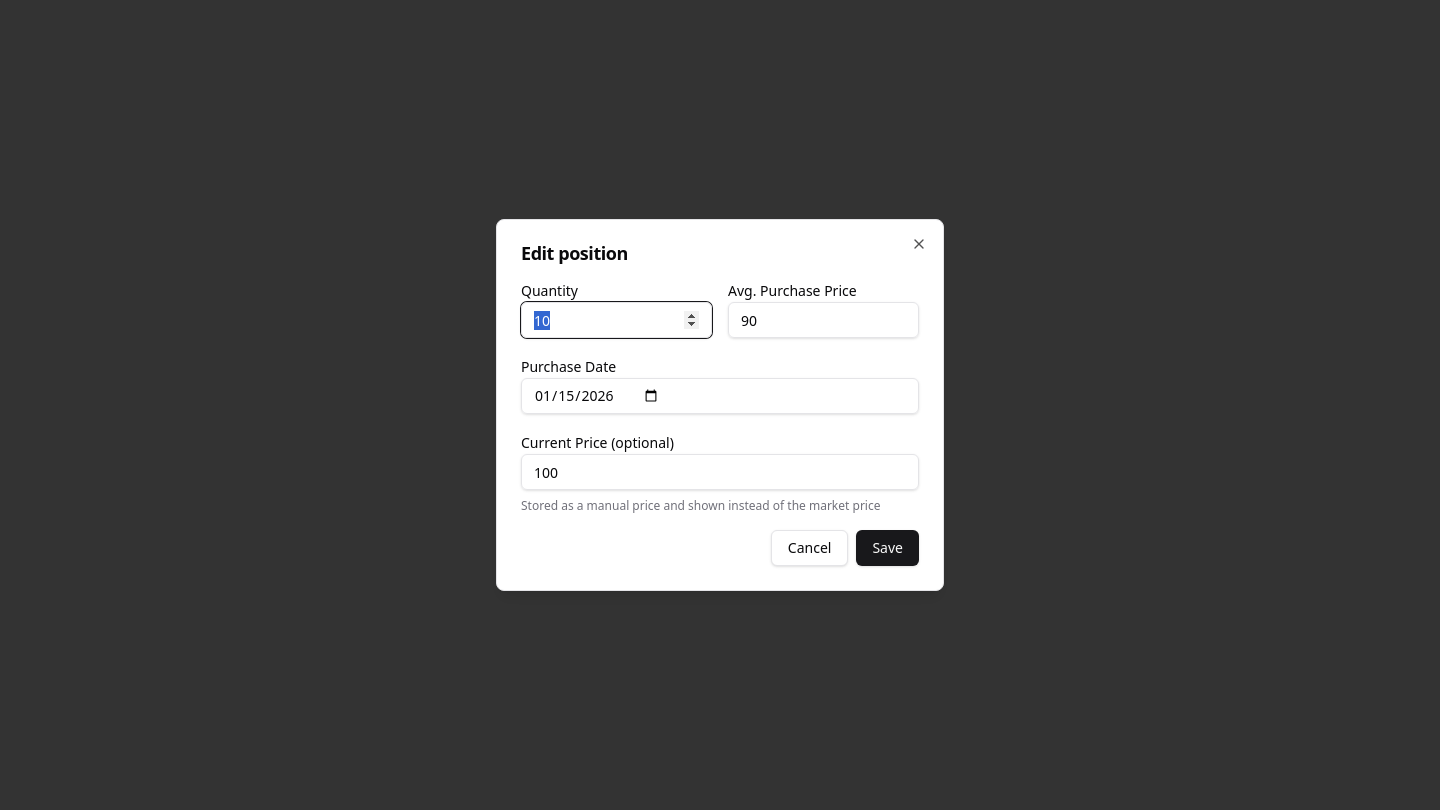
Test: EditPositionDialog › rejects a negative purchase price client-side
The width and height of the screenshot is (1440, 810).
Replace the text in the number field labelled "Avg. Purchase Price" with "-1" at (824, 320), box [728, 302, 919, 338]
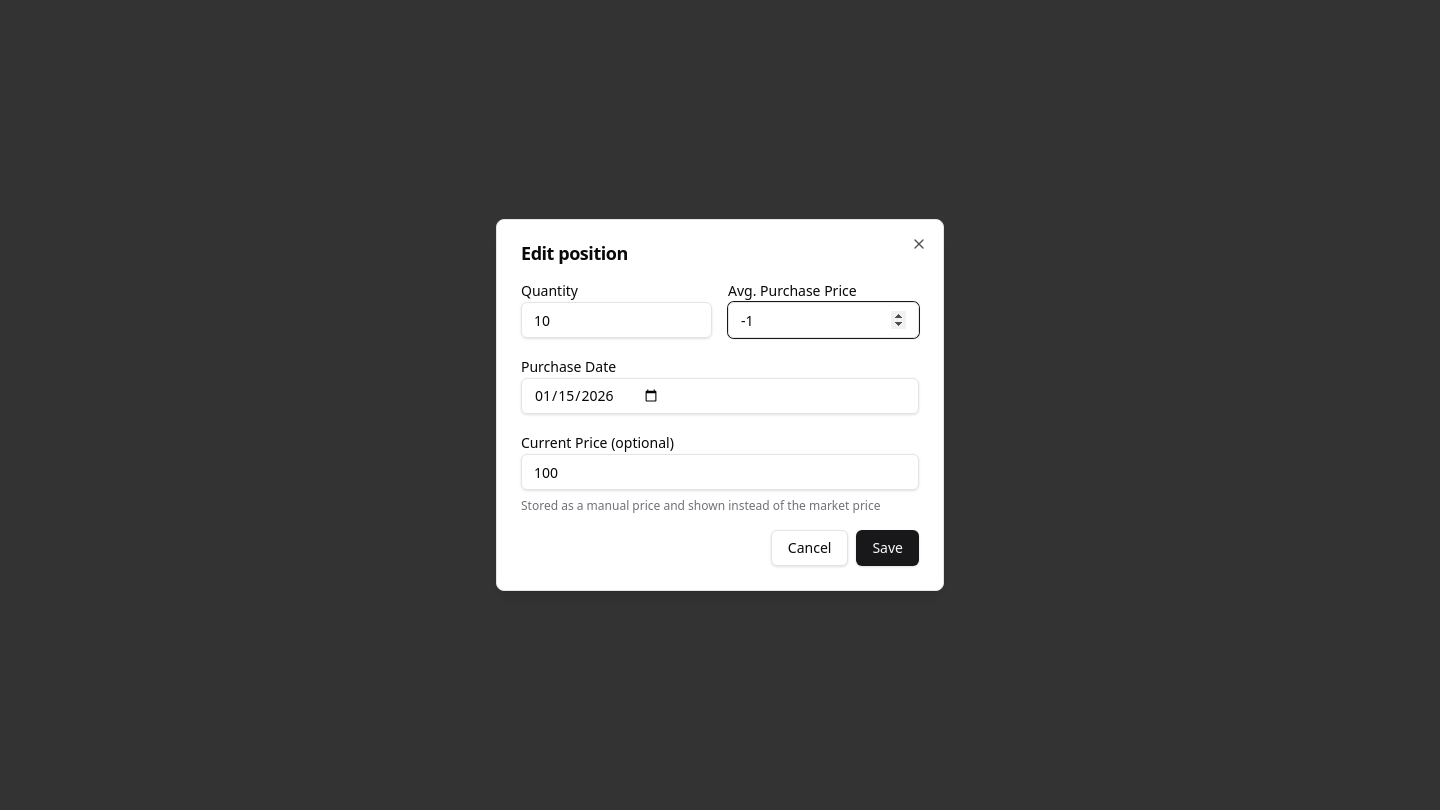
Click the button "Save" at (888, 548), box [856, 530, 919, 566]
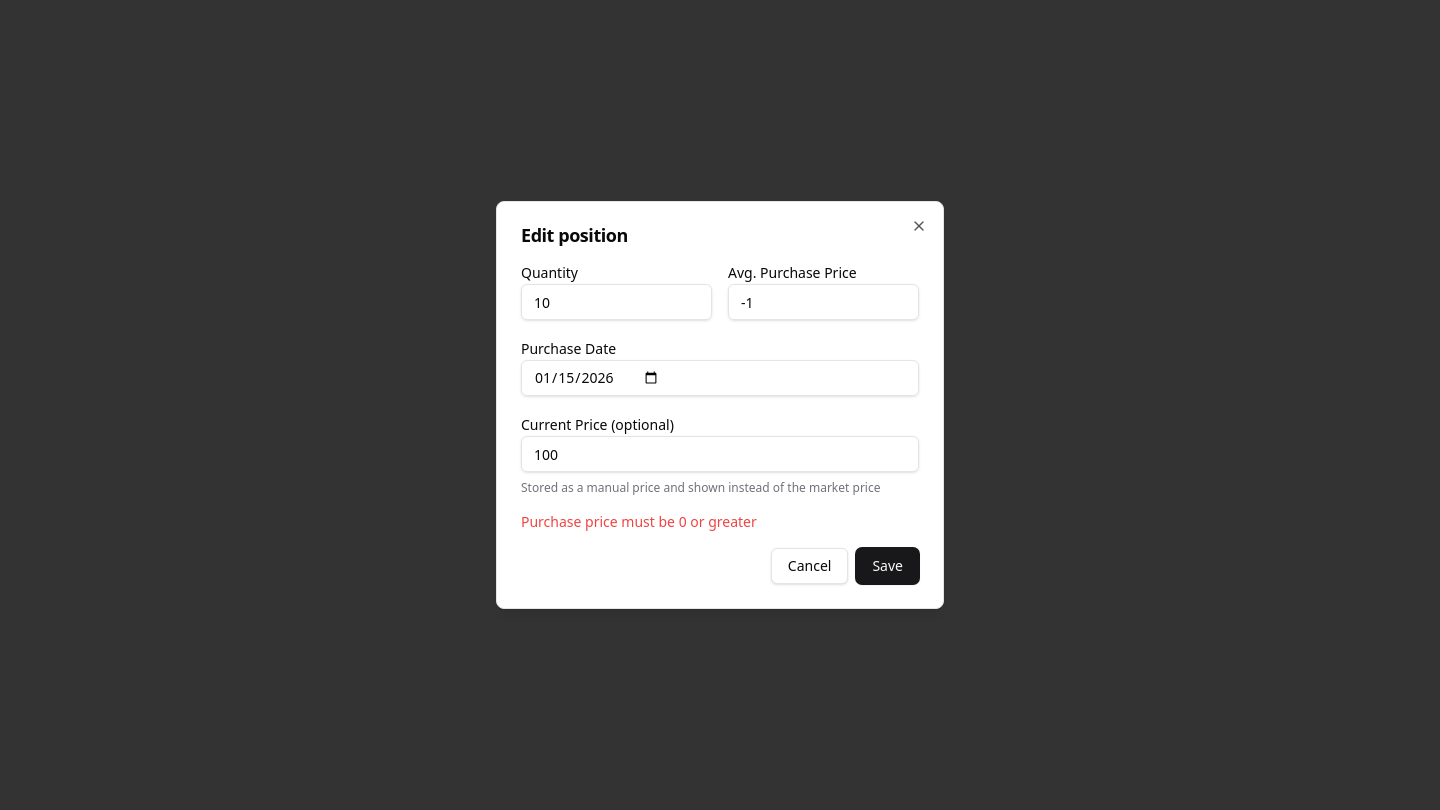
Check: the text "Purchase price must be 0 or greater" is shown, box [521, 512, 757, 531]
